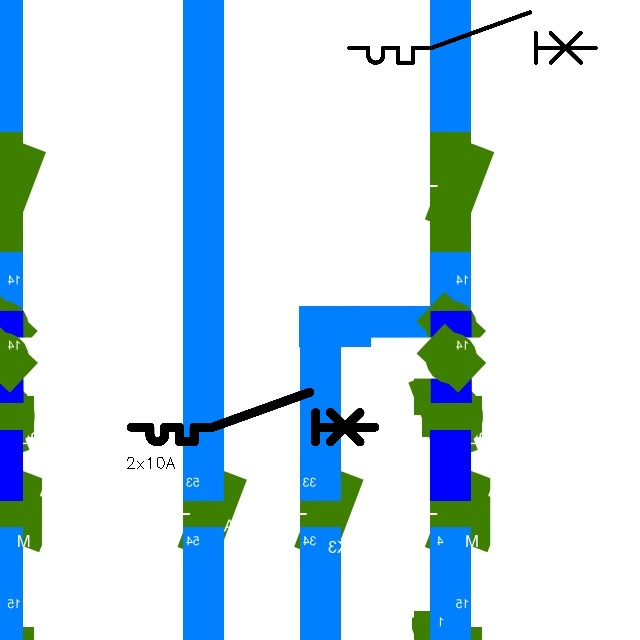interruptor_termomagnetico: (343, 6, 602, 69), (125, 386, 381, 448)
